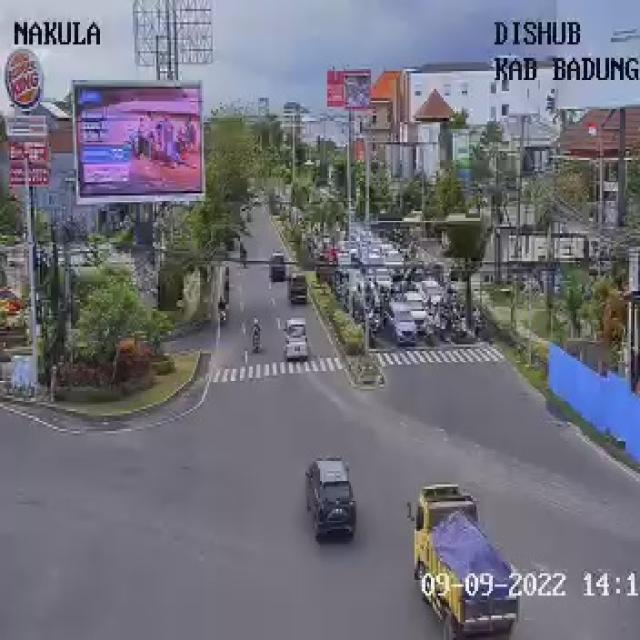car: (305, 458, 356, 539), (389, 302, 418, 346), (285, 318, 308, 359), (269, 251, 288, 282), (289, 274, 306, 304), (376, 269, 392, 289)
lorry: (415, 484, 519, 639)
motorcyclist: (218, 280, 229, 322), (250, 316, 261, 352), (215, 311, 219, 351)
